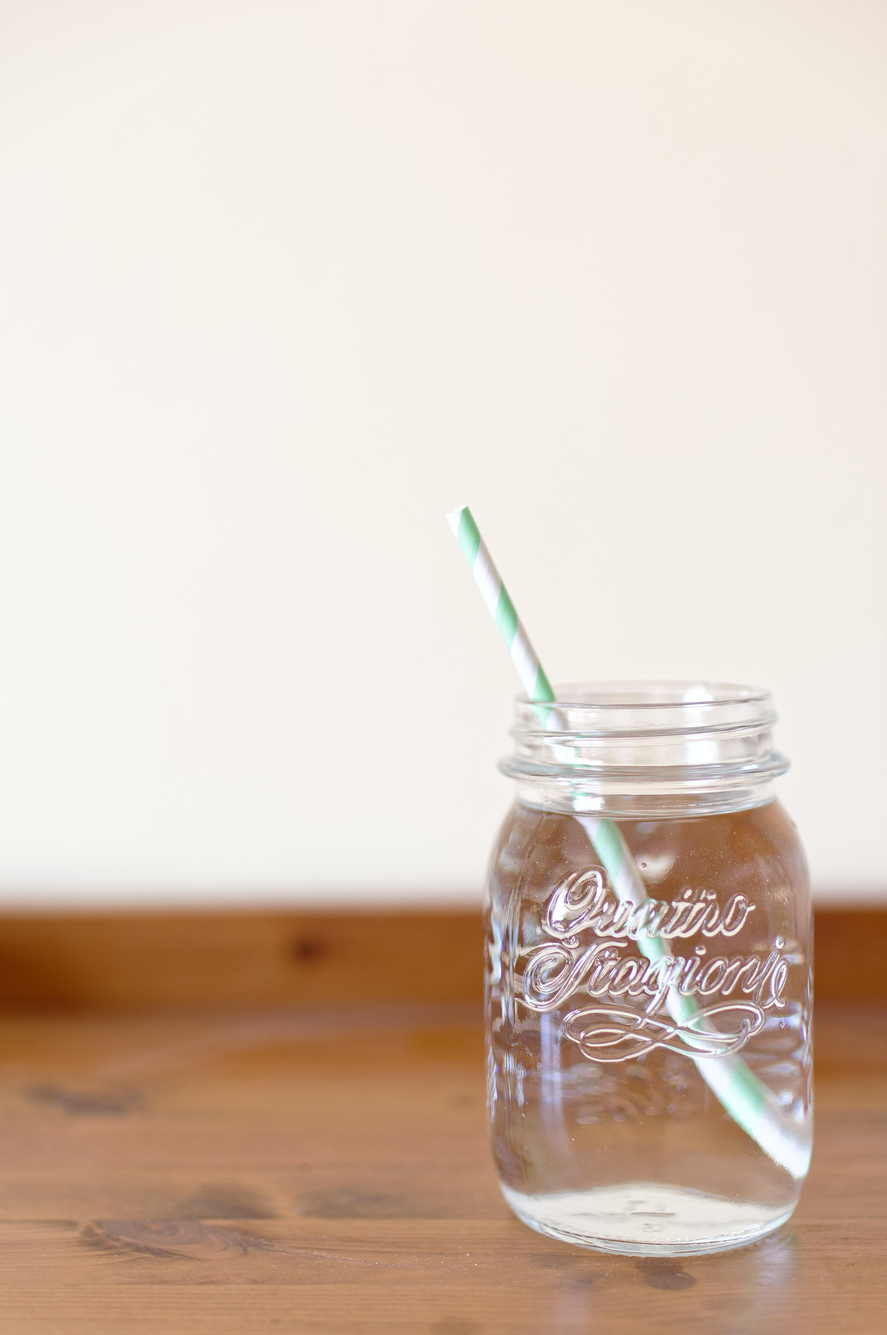glass-mug: (480, 659, 824, 1270)
